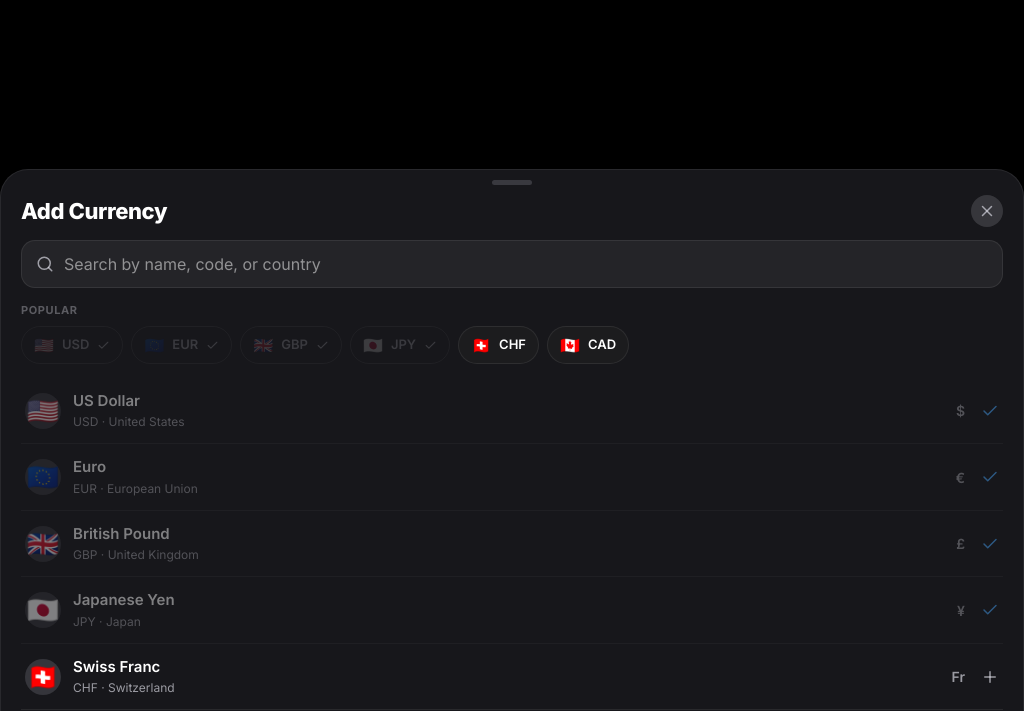
Test: PickerSheet › shows "No matches" for invalid query
The image size is (1024, 711).
Type "XYZNONEXISTENT" into the field with test id "picker-search" at (526, 264), box [64,252,988,276]
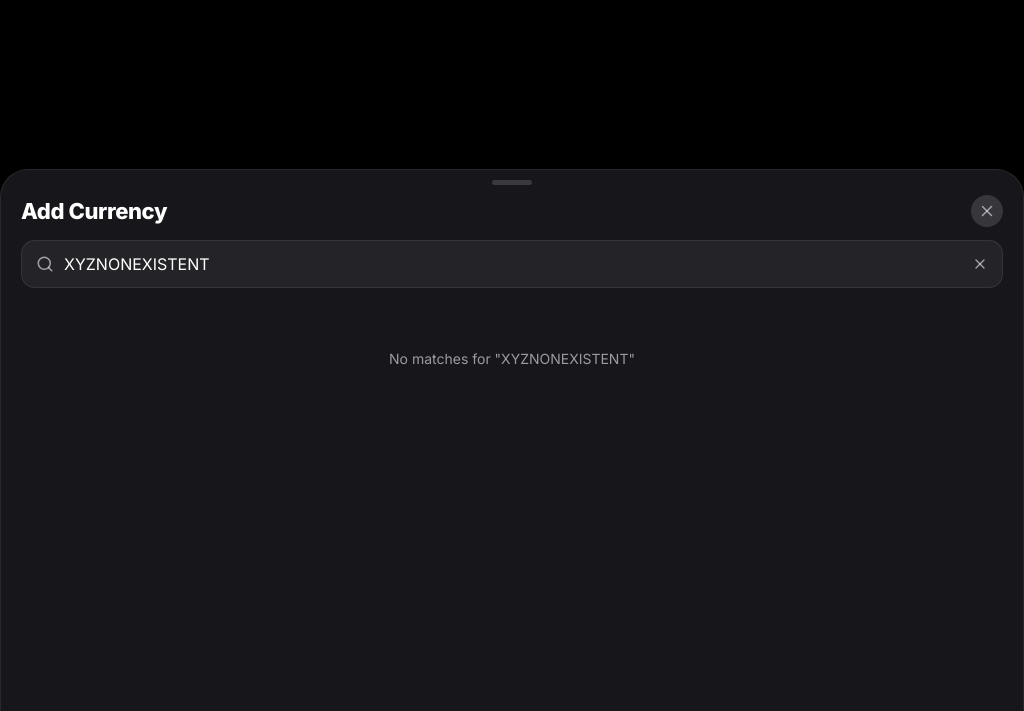
Result: the text "No matches for \"XYZNONEXISTENT\"" is shown at [389,350,635,367]
